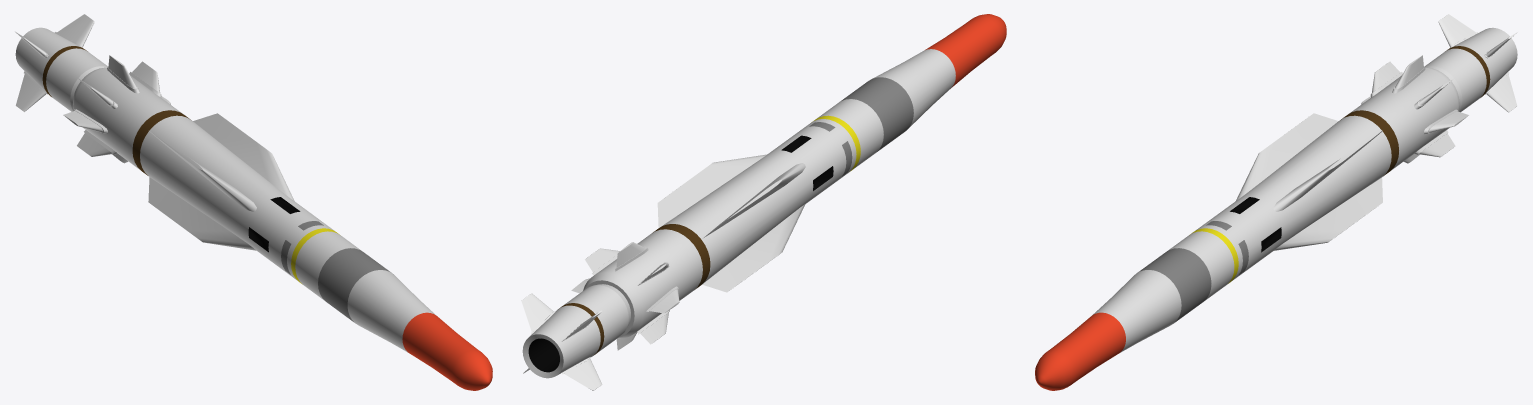
The picture shows the model from 3 angles, left to right: view 1: azimuth 30°, elevation 25°; view 2: azimuth 150°, elevation 25°; view 3: azimuth 330°, elevation 25°; orthographic projection.
Visible parts, largest first — view 1: Main.001; view 2: Main.001; view 3: Main.001.
Part boxes in pixels (box(x1,y1,x2,y2)): Main.001: box(15, 14, 492, 390); Main.001: box(521, 14, 1006, 390); Main.001: box(1035, 14, 1517, 390).
Bounding box in the file's own units: 0.7579 × 0.7575 × 6.42.
